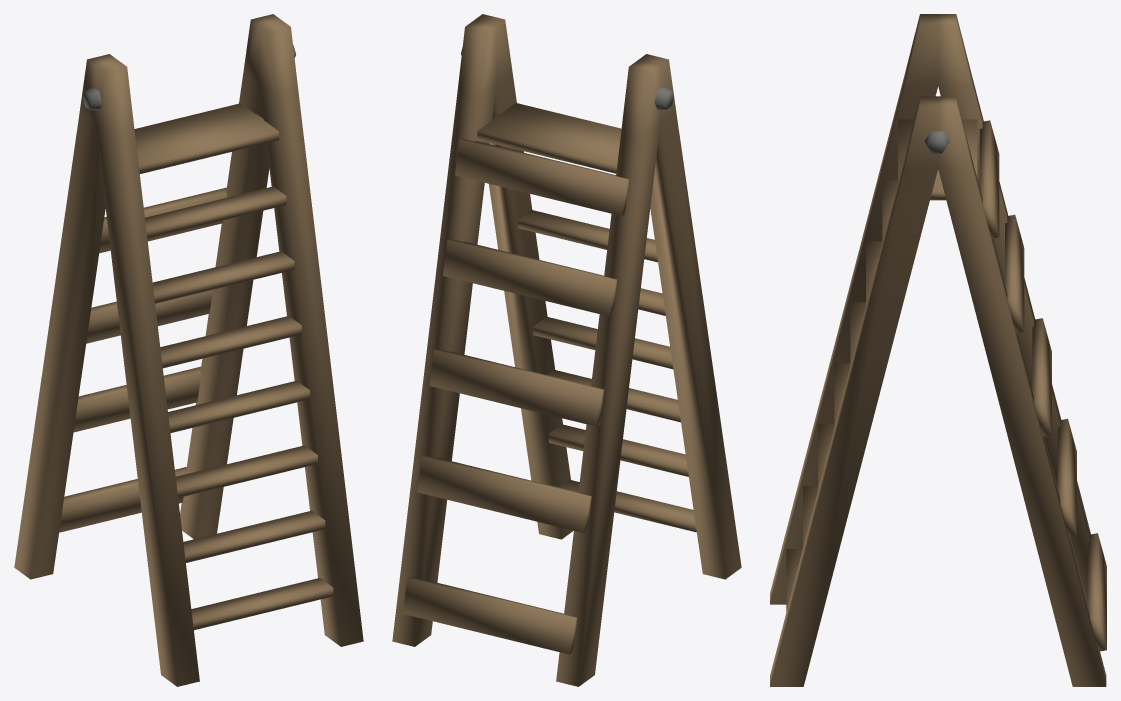
Rendered from rpgpp_ag_ladder_02.fbx.
3 renders of one model, left to right at view 1: azimuth 30°, elevation 25°; view 2: azimuth 150°, elevation 25°; view 3: azimuth 270°, elevation 25°, orthographic. The views are drawn at different scales.
Parts seen in each view (by area): view 1: rpgpp_ag_ladder_02; view 2: rpgpp_ag_ladder_02; view 3: rpgpp_ag_ladder_02.
Boxes of the visible parts, x1,y1,x2,y2 form: rpgpp_ag_ladder_02: (14, 14, 363, 686); rpgpp_ag_ladder_02: (392, 14, 741, 686); rpgpp_ag_ladder_02: (770, 14, 1106, 686).
Bounding box in the file's own units: 0.7223 × 1.9 × 1.
